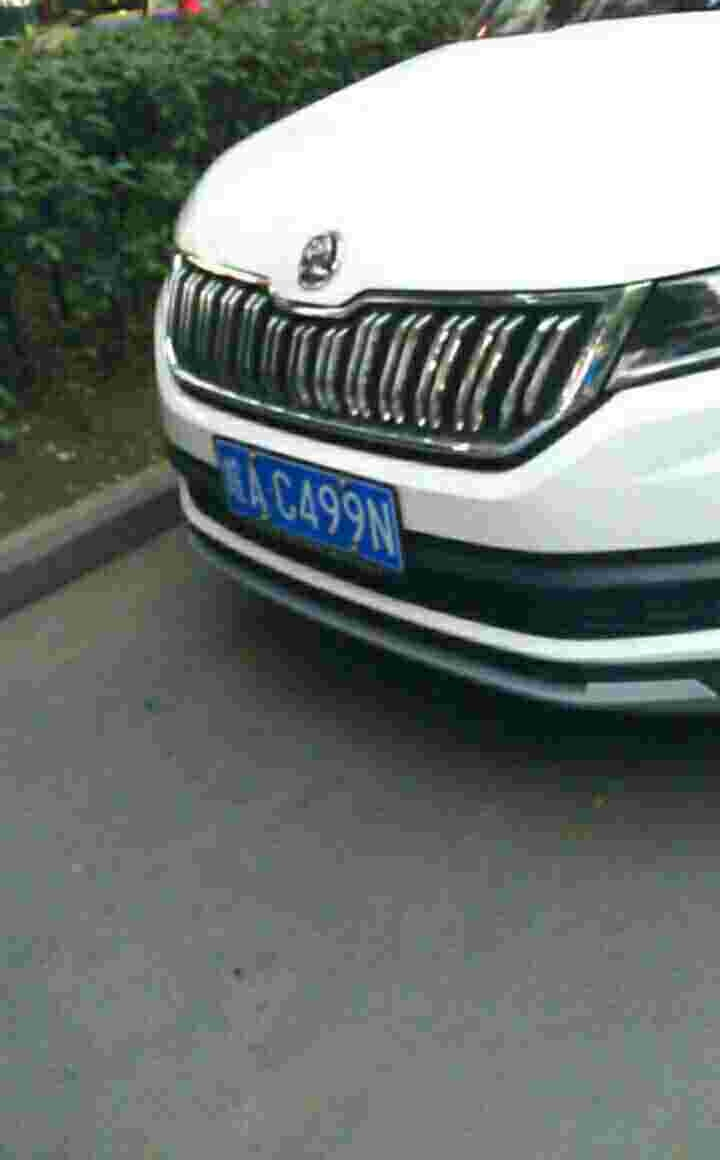license_plate: (221, 447, 399, 574)
